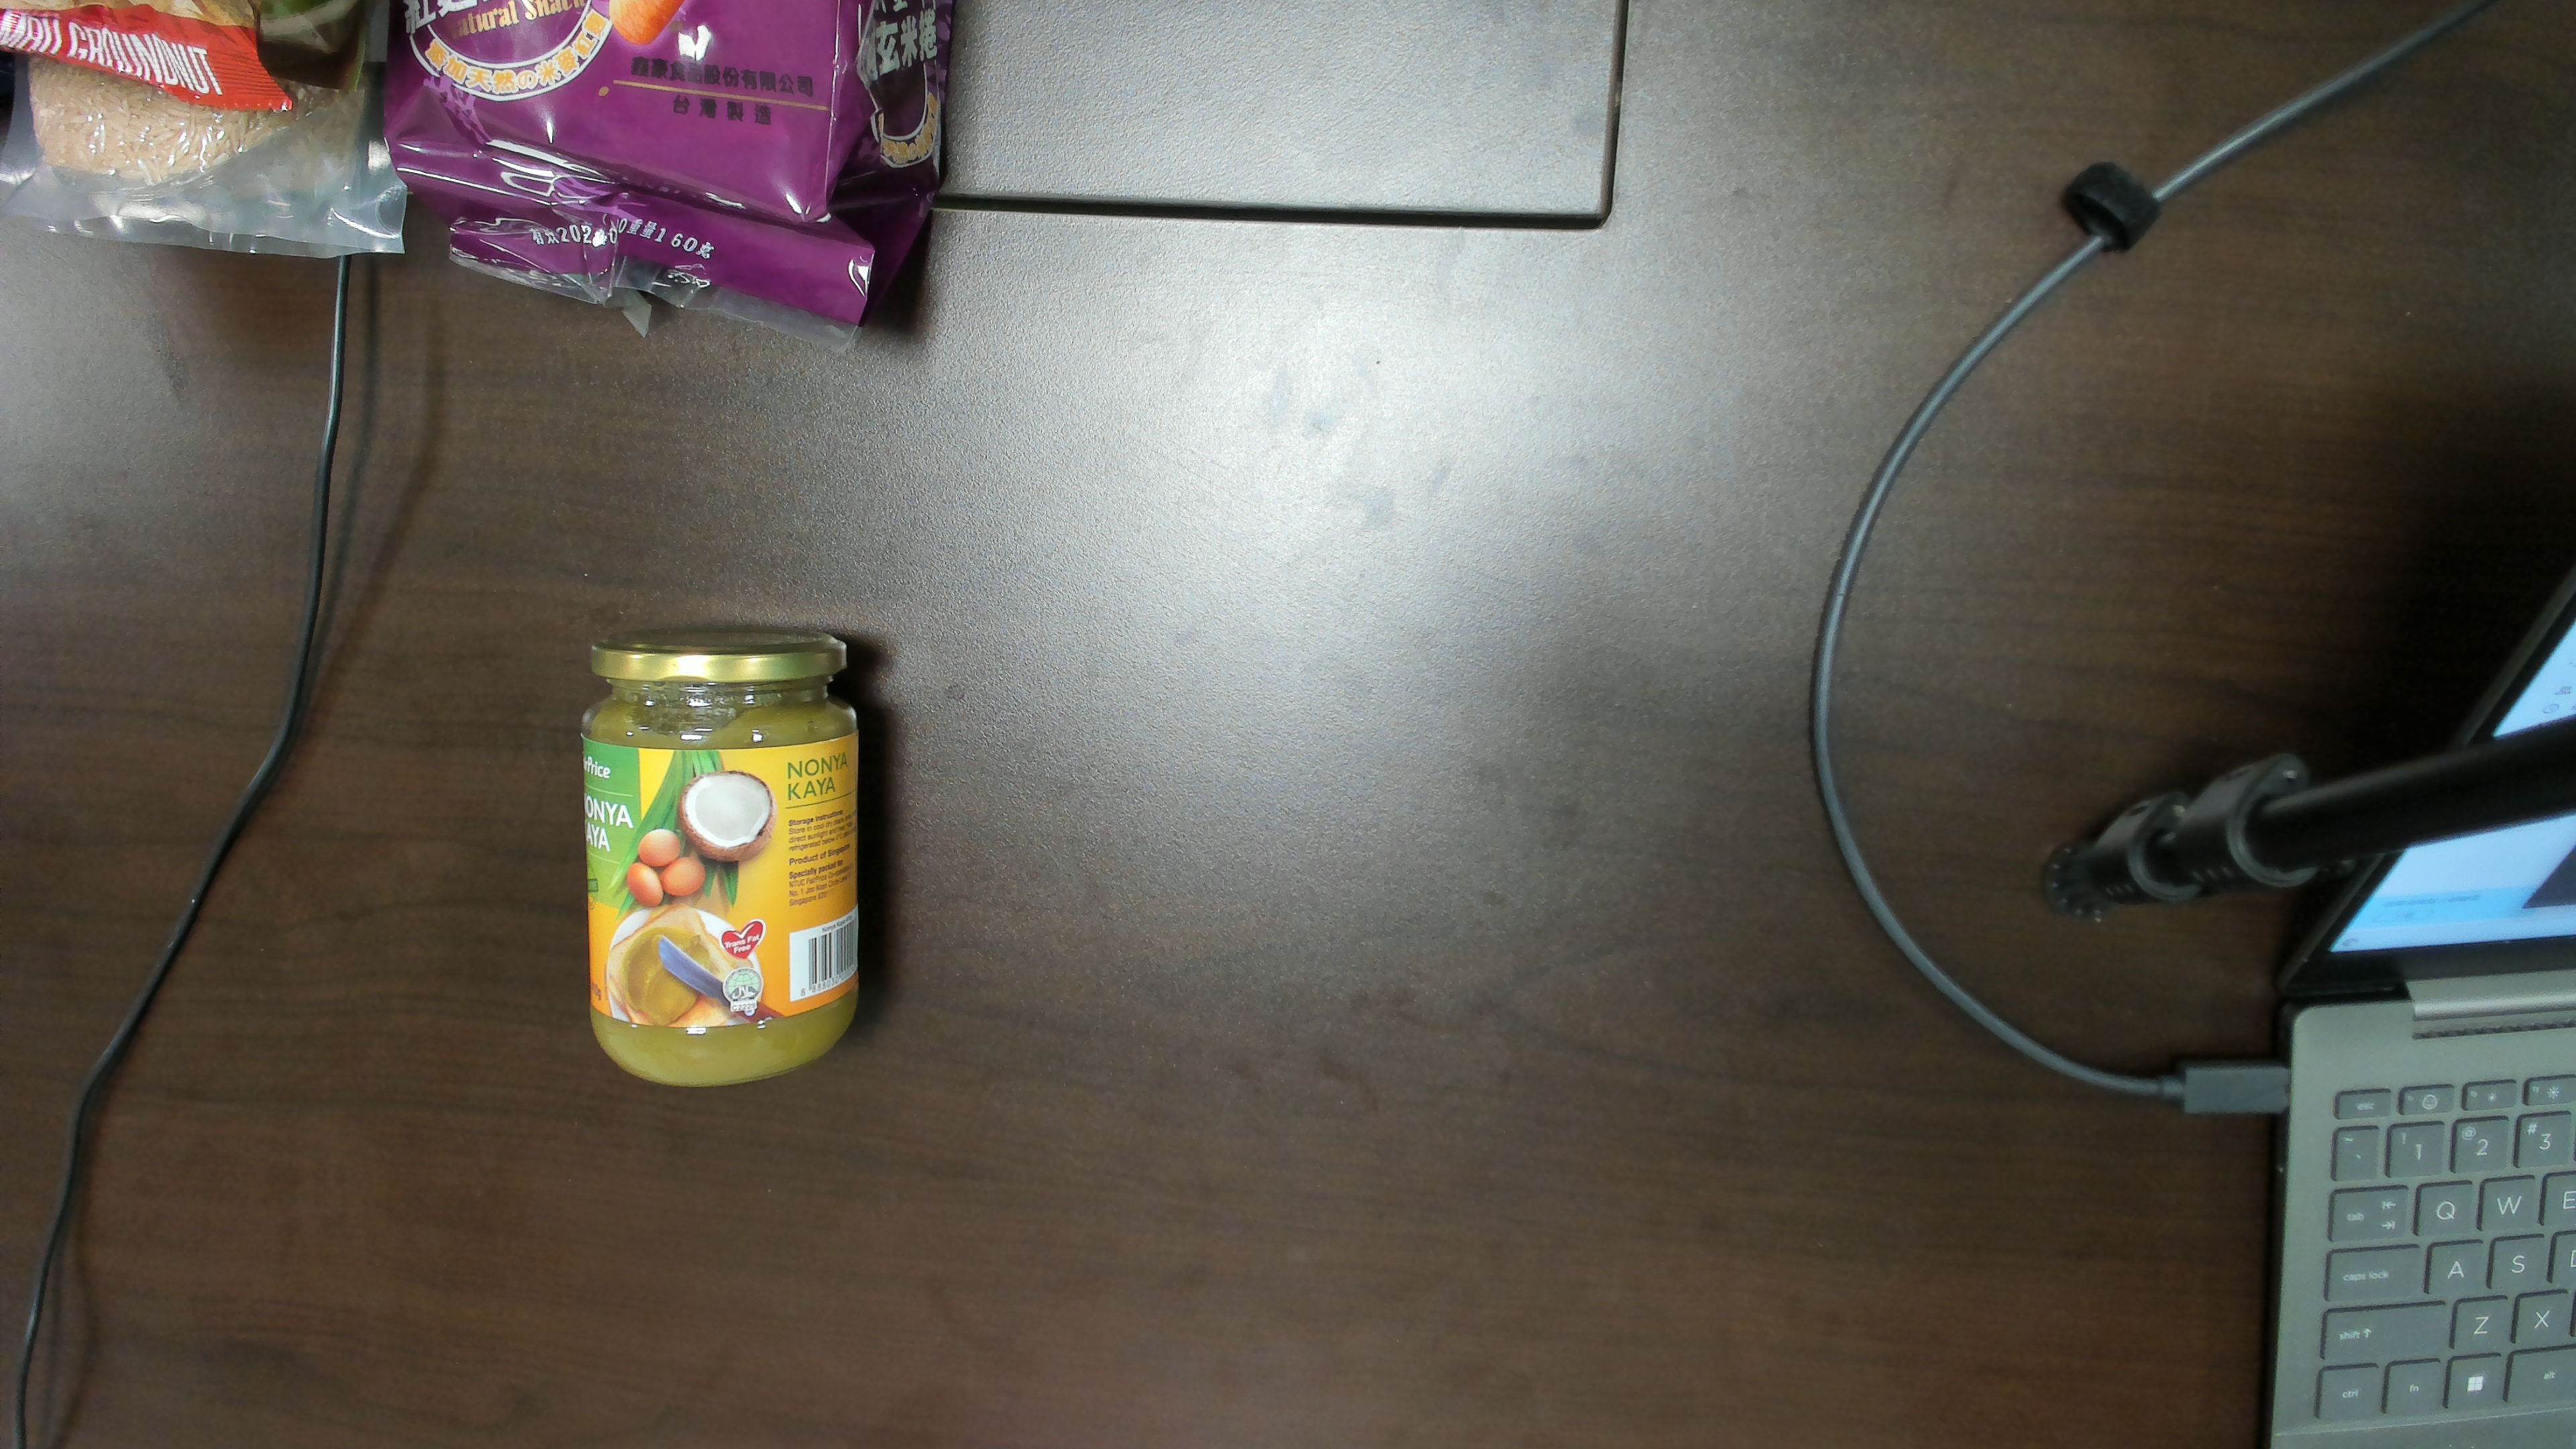Kaya_400-499g_Halal_NonHealthy: (589, 706, 839, 1017)
